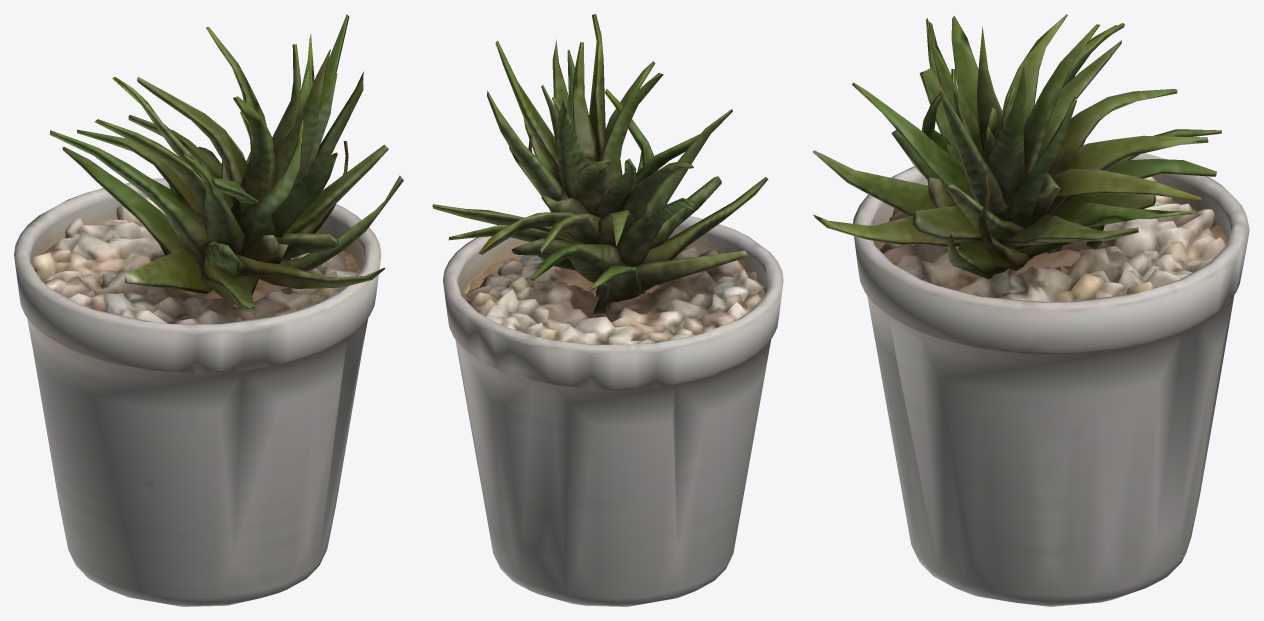
File: pianta.glb
3 renders of one model, left to right at view 1: azimuth 30°, elevation 25°; view 2: azimuth 150°, elevation 25°; view 3: azimuth 270°, elevation 25°, orthographic. The views are drawn at different scales.
Parts seen in each view (by area): view 1: potted_plant_04_pot, potted_plant_04_plant, potted_plant_04_ground, potted_plant_04_dirt; view 2: potted_plant_04_pot, potted_plant_04_plant, potted_plant_04_ground, potted_plant_04_dirt; view 3: potted_plant_04_pot, potted_plant_04_plant, potted_plant_04_ground, potted_plant_04_dirt.
Part boxes in pixels (x1=…): potted_plant_04_pot: x1=14, y1=178, x2=381, y2=606; potted_plant_04_plant: x1=49, y1=14, x2=403, y2=311; potted_plant_04_ground: x1=33, y1=196, x2=356, y2=323; potted_plant_04_dirt: x1=34, y1=237, x2=361, y2=307; potted_plant_04_pot: x1=443, y1=216, x2=783, y2=606; potted_plant_04_plant: x1=432, y1=14, x2=768, y2=314; potted_plant_04_ground: x1=461, y1=247, x2=765, y2=344; potted_plant_04_dirt: x1=461, y1=247, x2=765, y2=306; potted_plant_04_pot: x1=853, y1=144, x2=1249, y2=606; potted_plant_04_plant: x1=812, y1=14, x2=1221, y2=279; potted_plant_04_ground: x1=880, y1=176, x2=1226, y2=302; potted_plant_04_dirt: x1=873, y1=200, x2=1227, y2=297.
Size of the model in its own units: 0.1672 by 0.2671 by 0.1845.
Materials: 1 (1 with a texture image).
